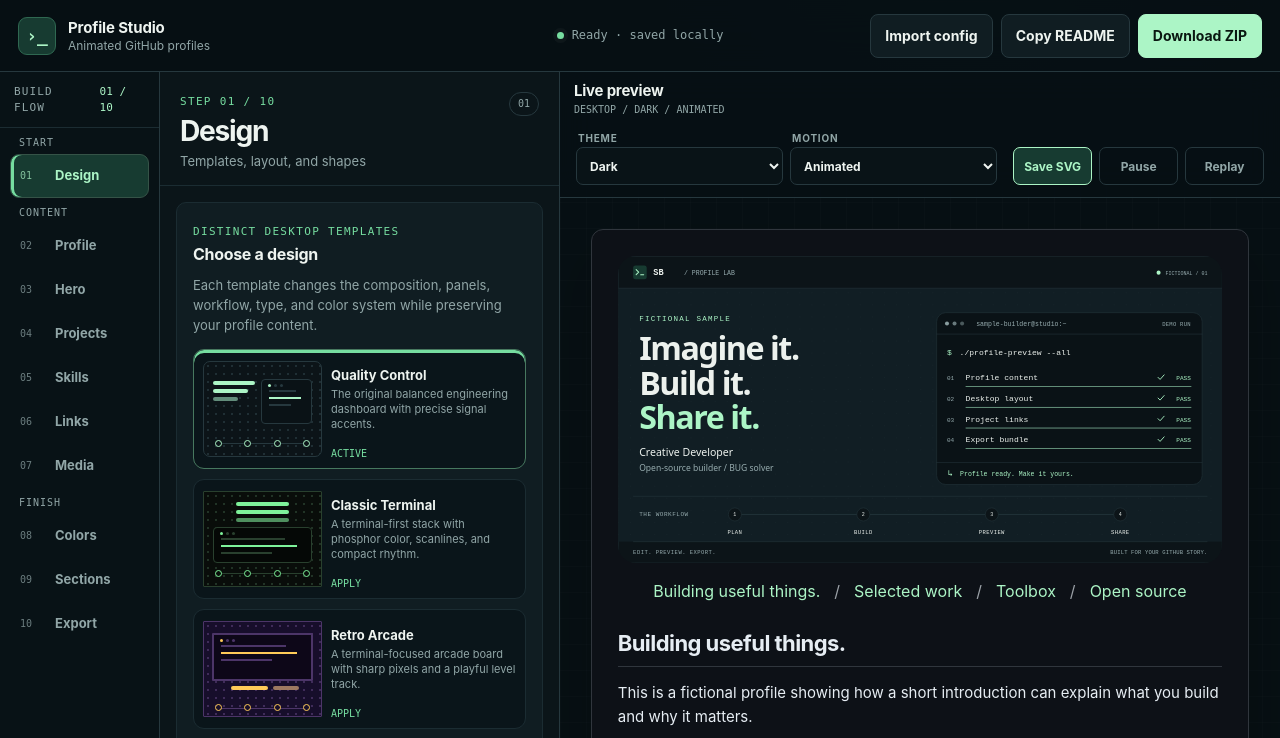
Test: Profile Studio workspace › uses simple step navigation and labels the focused inspector
Click the button with id "step-profile": (80,246) [10,224,149,268]
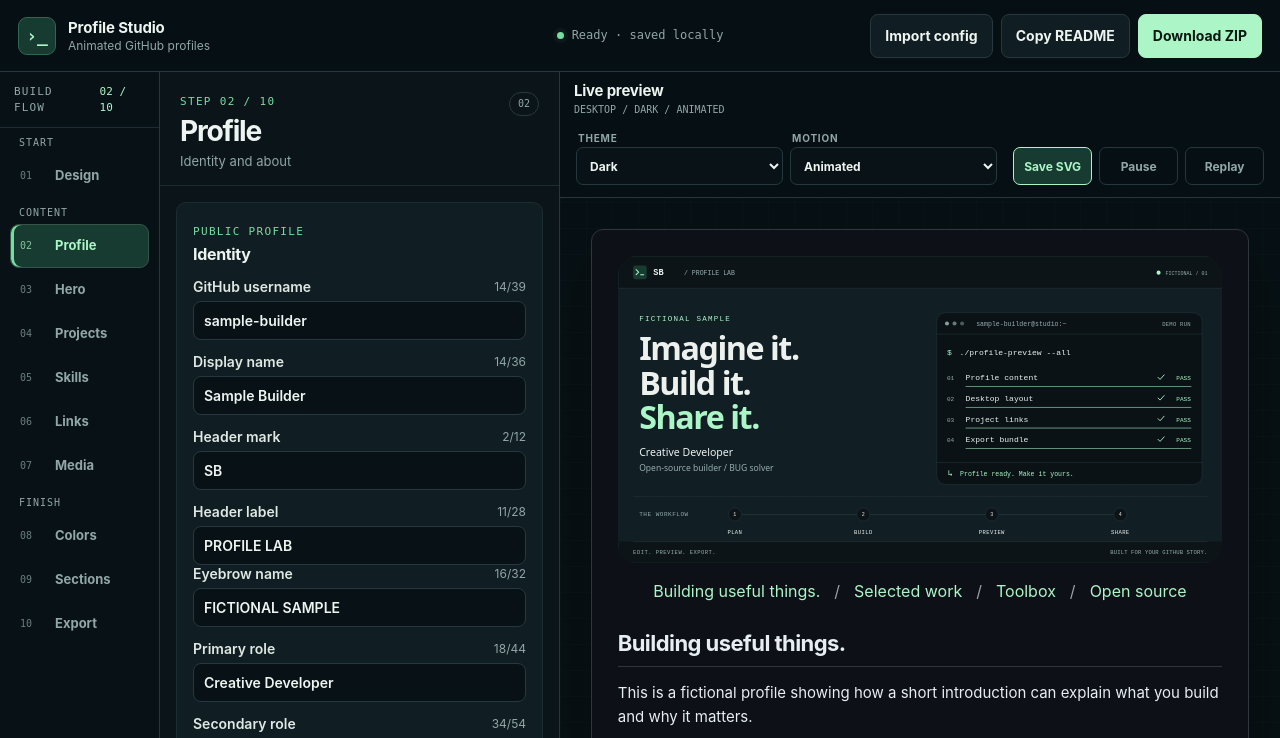
expect the heading with id "editor-heading" reads "Profile": met, box [180,114,261,148]
